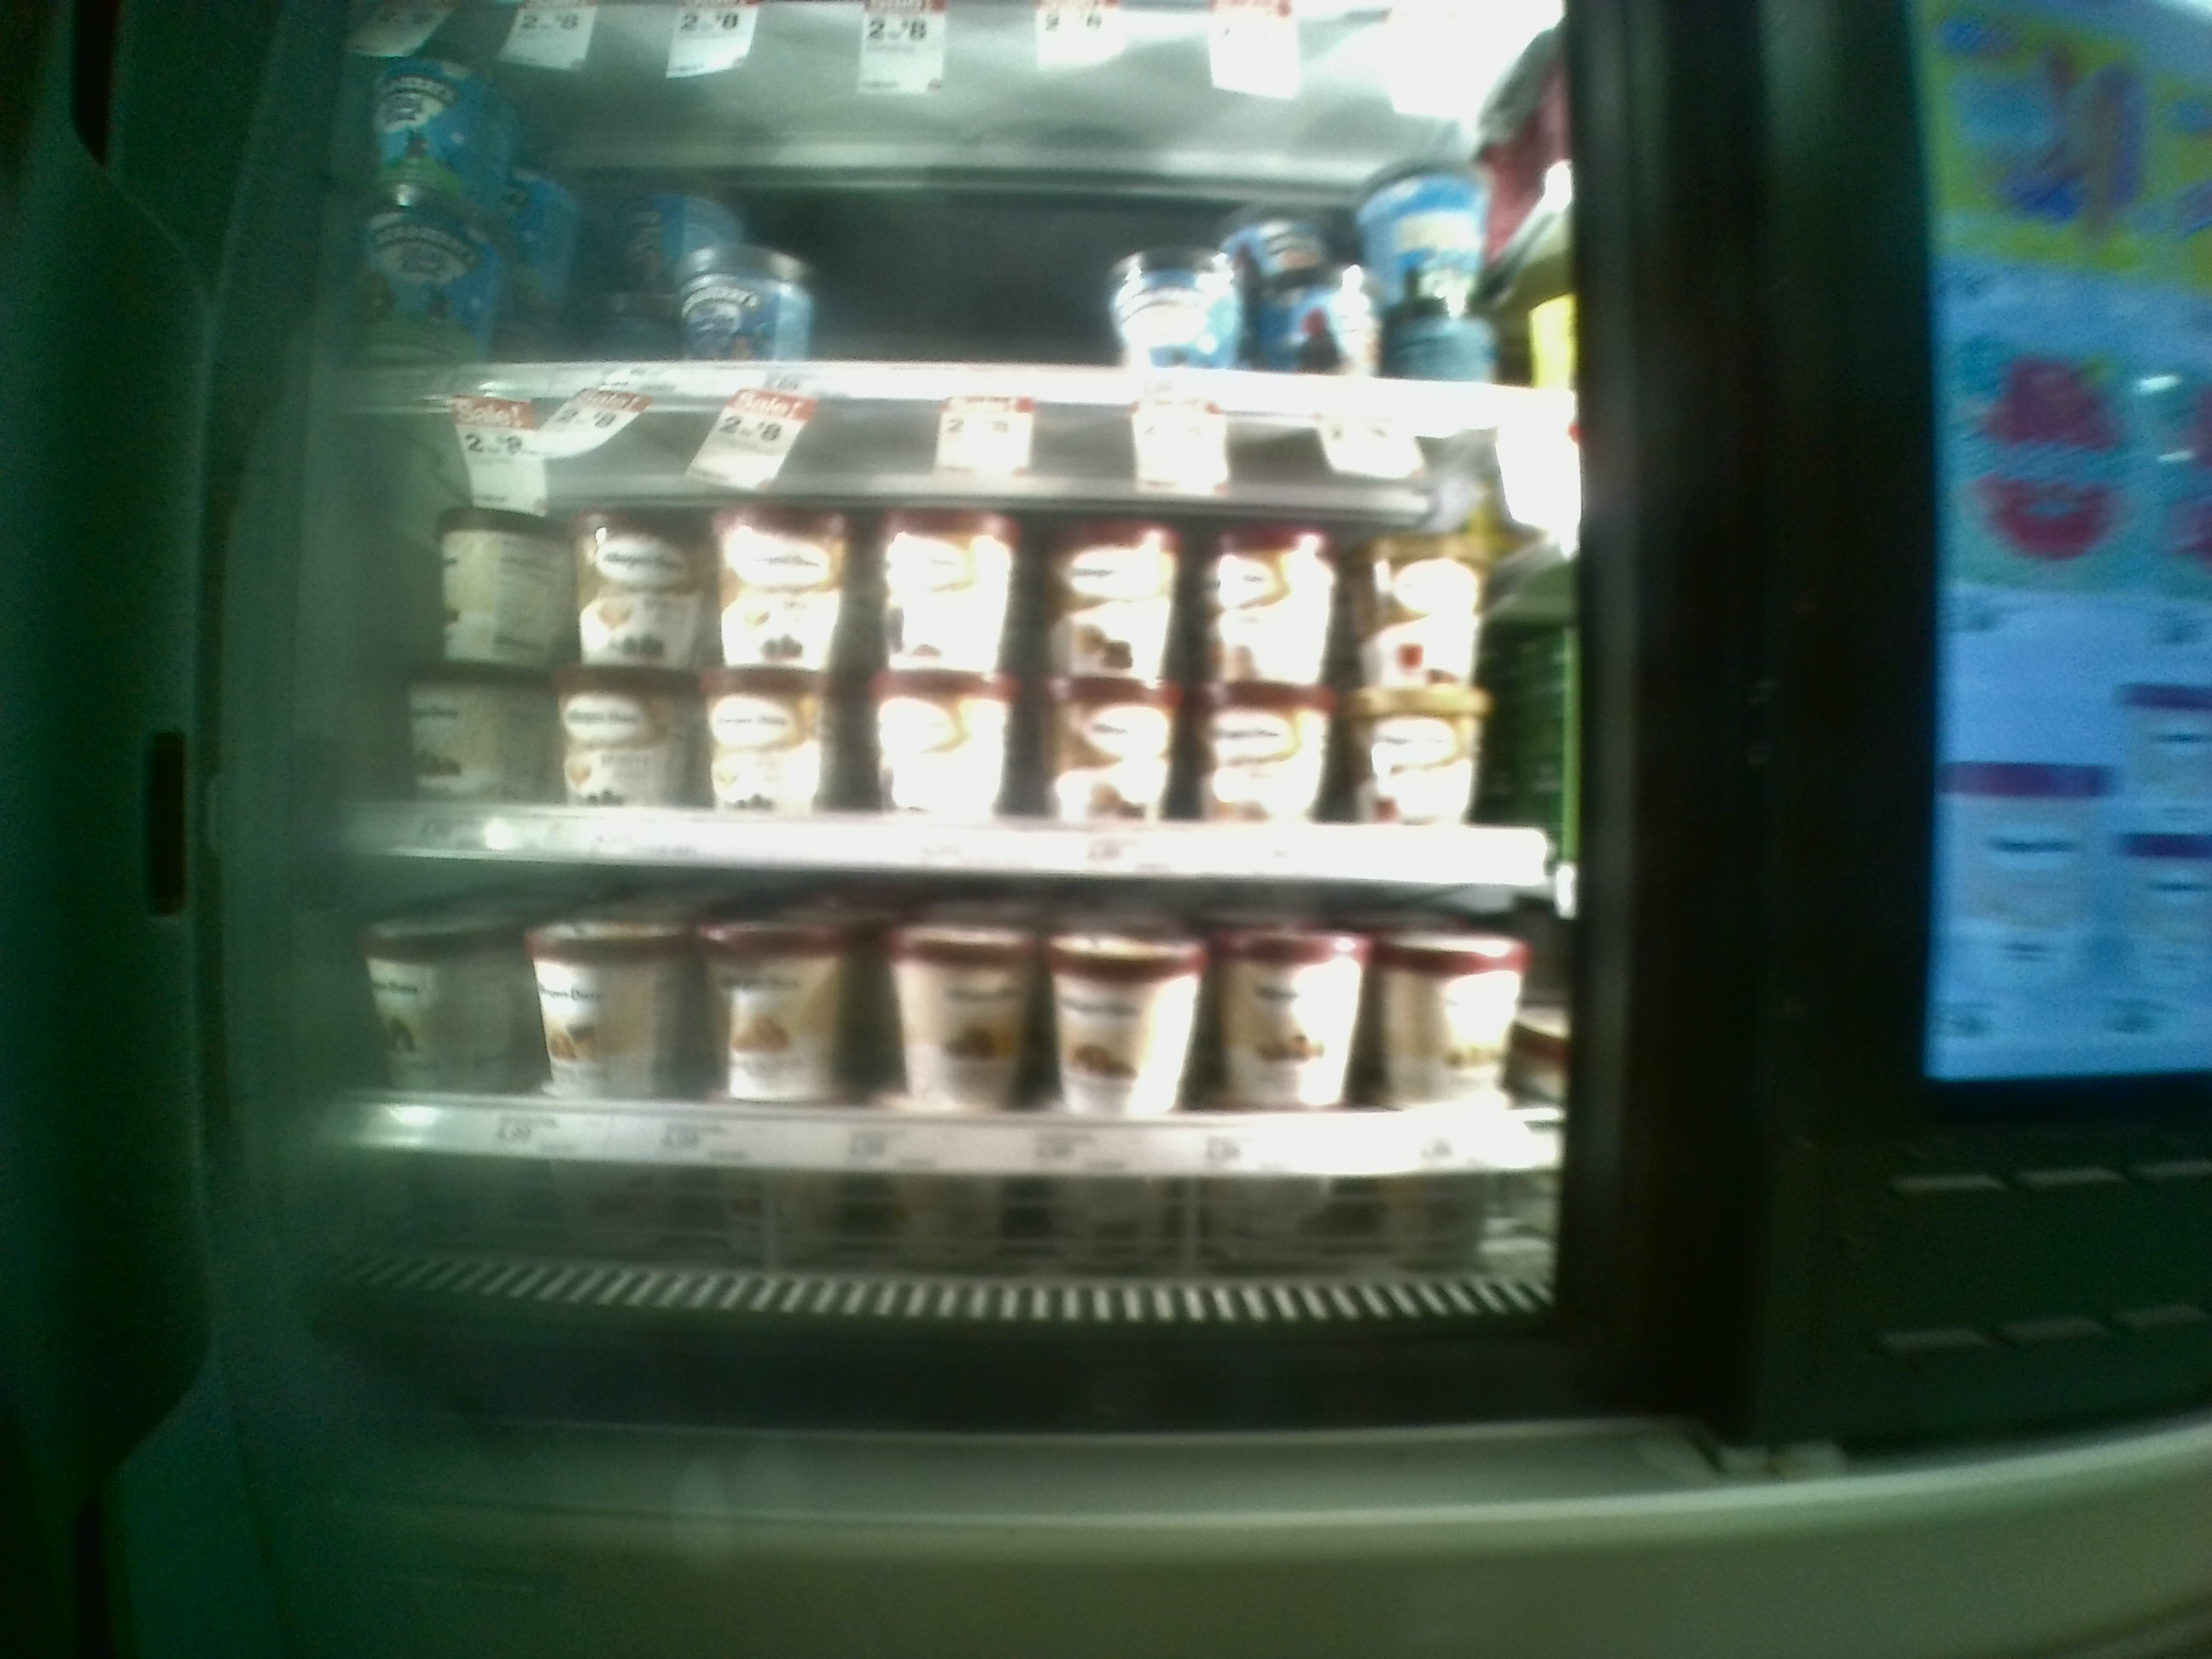shelf: (294, 397, 1576, 878), (286, 877, 1571, 1270)
